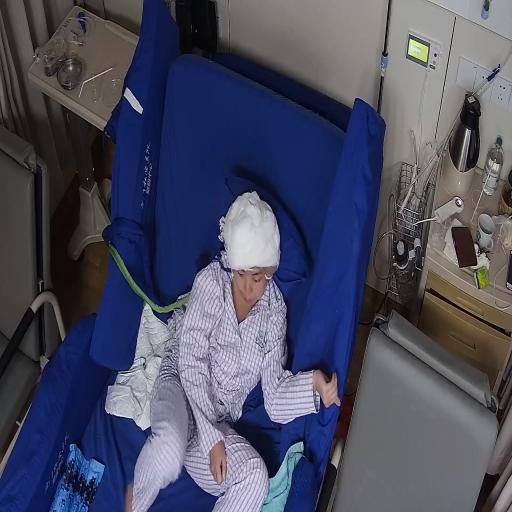Seizure: (224, 246, 275, 309)
